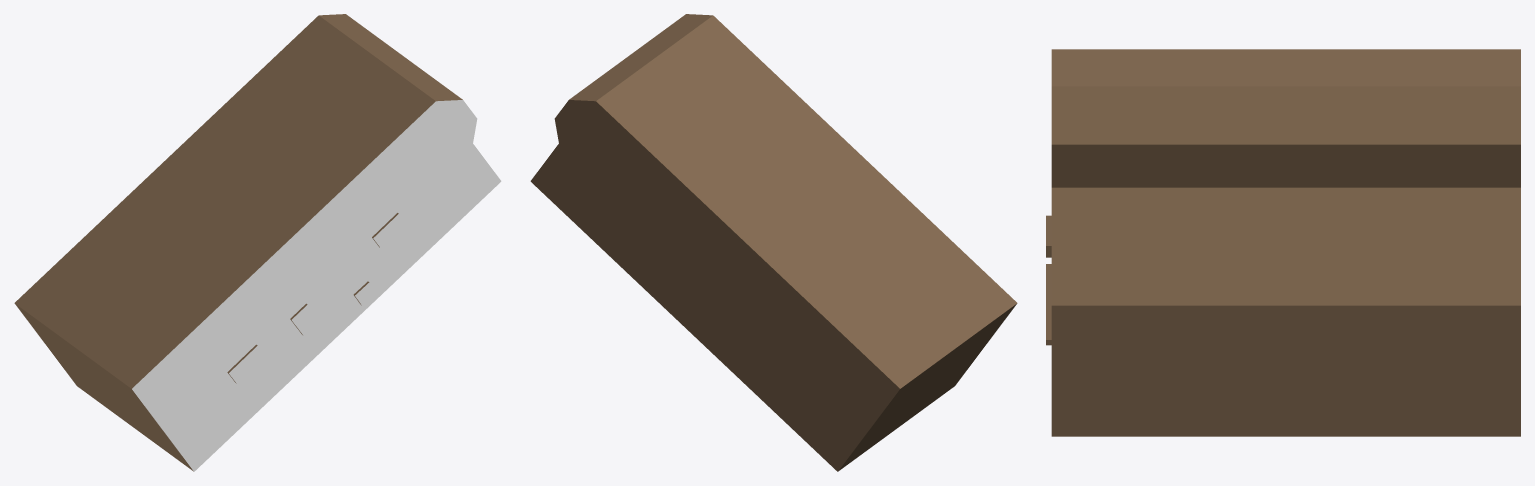
3 renders of one model, left to right at view 1: azimuth 30°, elevation 25°; view 2: azimuth 150°, elevation 25°; view 3: azimuth 270°, elevation 25°, orthographic. The views are drawn at different scales.
Parts seen in each view (by area): view 1: City_1202550; view 2: City_1202550; view 3: City_1202550.
Boxes of the visible parts, x1=… form: City_1202550: x1=14, y1=14, x2=501, y2=471; City_1202550: x1=530, y1=14, x2=1017, y2=471; City_1202550: x1=1046, y1=49, x2=1520, y2=436.
Size of the model in its own units: 2449 by 1972 by 1361.
